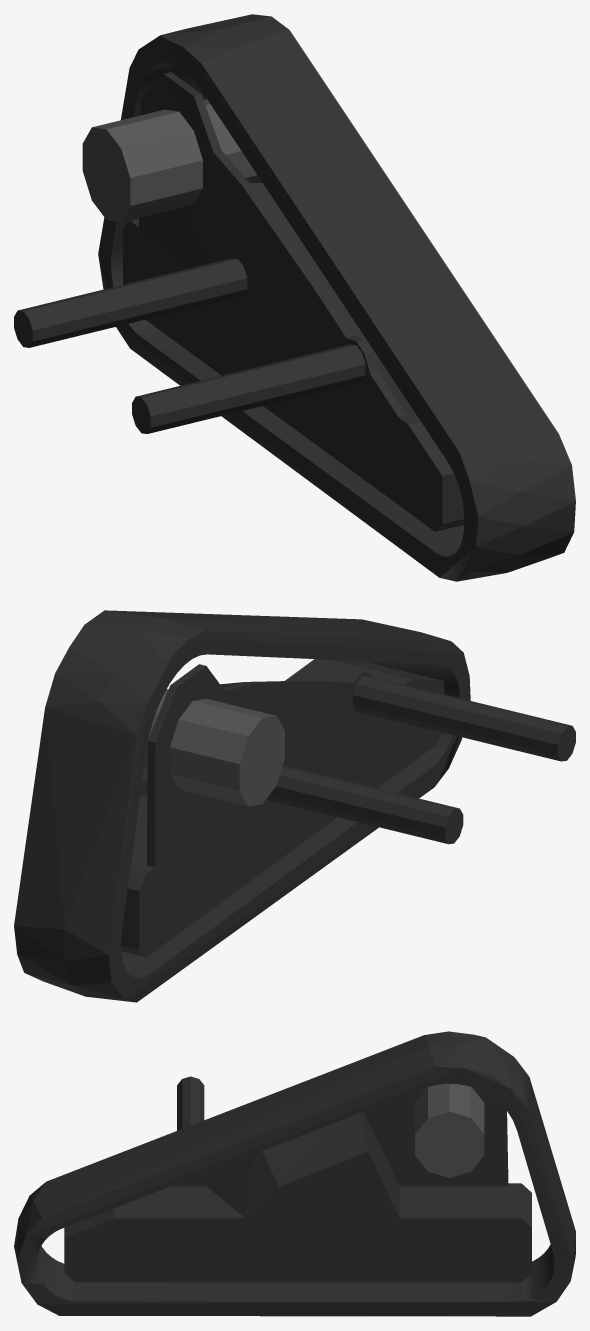
Rendered from ceol_roue.dae.
3 renders of one model, top to bottom at view 1: azimuth 30°, elevation 25°; view 2: azimuth 150°, elevation 25°; view 3: azimuth 270°, elevation 25°, orthographic. The views are drawn at different scales.
Visible parts, largest first — view 1: chenilles, chassis_roue, moteurs; view 2: chenilles, chassis_roue, moteurs; view 3: chassis_roue, chenilles, moteurs.
Boxes of the visible parts, x1=… form: chenilles: x1=98, y1=14, x2=575, y2=581; chassis_roue: x1=14, y1=72, x2=464, y2=531; moteurs: x1=82, y1=99, x2=262, y2=221; chenilles: x1=14, y1=610, x2=470, y2=1002; chassis_roue: x1=121, y1=659, x2=575, y2=957; moteurs: x1=142, y1=689, x2=284, y2=806; chassis_roue: x1=64, y1=1076, x2=531, y2=1282; chenilles: x1=14, y1=1031, x2=575, y2=1316; moteurs: x1=415, y1=1084, x2=484, y2=1177.
Bounding box in the file's own units: 0.5609 × 1.17 × 0.5875.
Materials: 1 (1 with a texture image).
